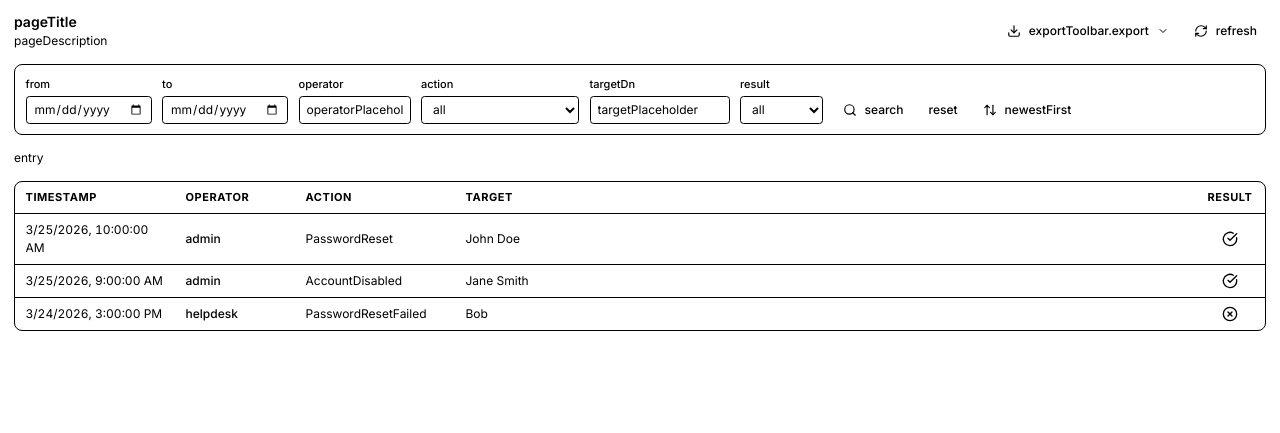
Test: AuditLog › expands a row to show details
Click the row with test id "audit-row" that starts with "3/25/2026, 10:00:00 AM". click: click(640, 238)
box: left=15, top=213, right=1265, bottom=264
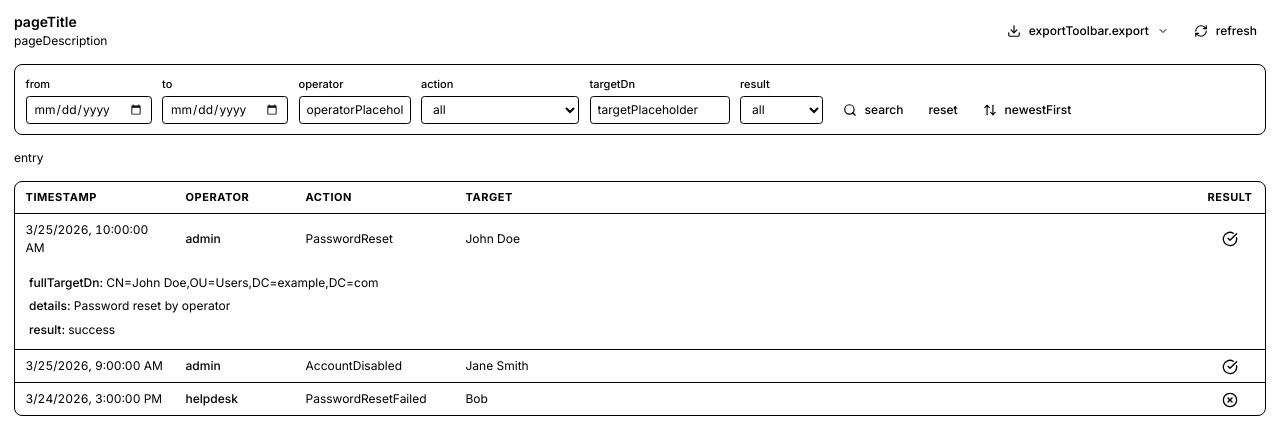
Expected: the text "Password reset by operator" is shown, left=74, top=298, right=230, bottom=313
